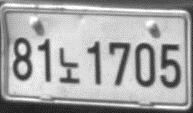0: (134, 41, 156, 87)
1: (85, 38, 103, 86), (36, 37, 53, 83)
5: (158, 42, 181, 88)
7: (107, 41, 131, 87)
8: (12, 36, 33, 80)
노: (58, 45, 81, 85)
